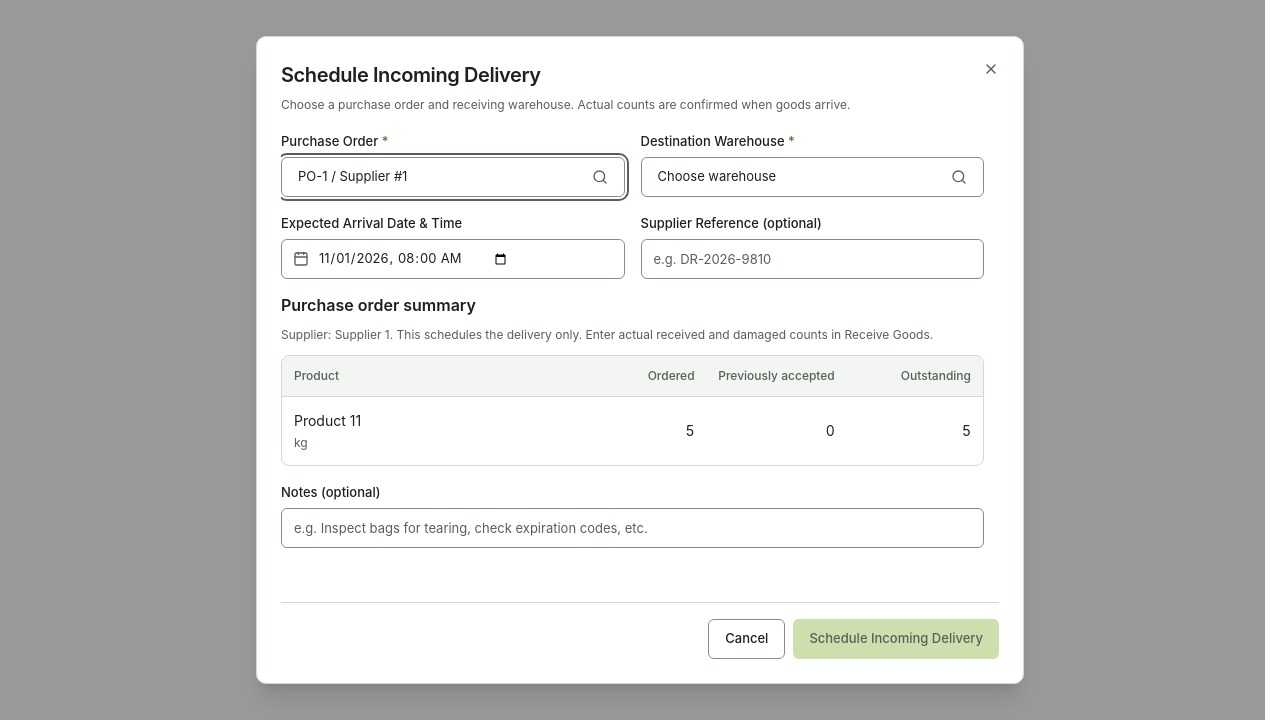
Test: does not submit an inactive warehouse discovered during scheduling preflight
Expected: the text "Product 11" is shown, [294,412,361,428]
Click the button with aria-label "Destination Warehouse" at (717, 176), box [640,157,984,197]
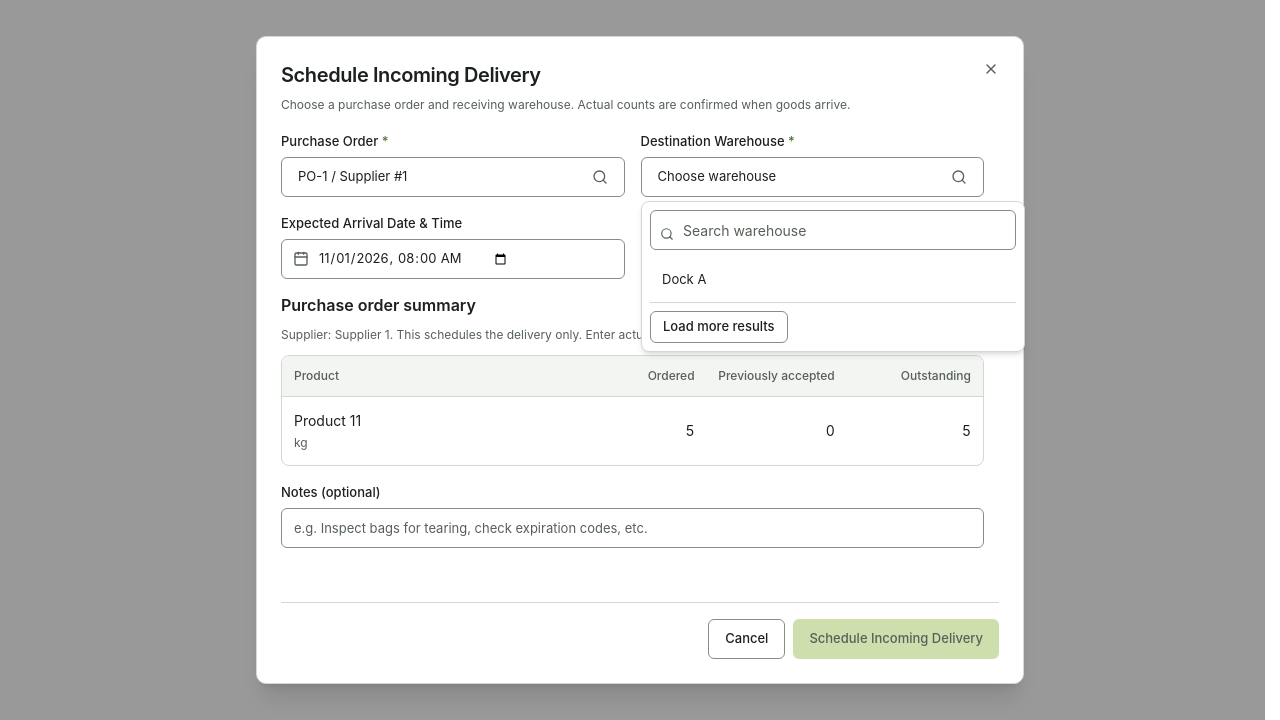
Click the menu item "Dock A" at (684, 279), box [662,271,706,287]
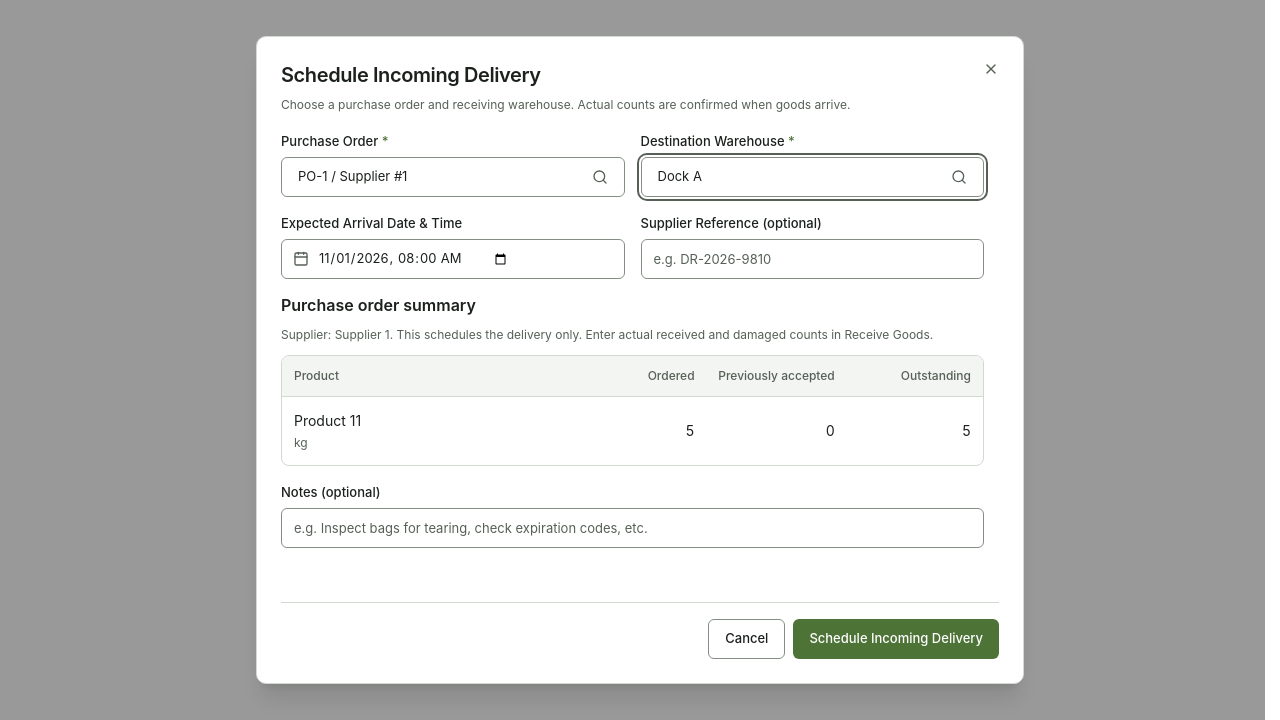
Expected: the button "Schedule Incoming Delivery" is enabled
Click the button "Schedule Incoming Delivery" at (896, 639), box [793,619,999,659]
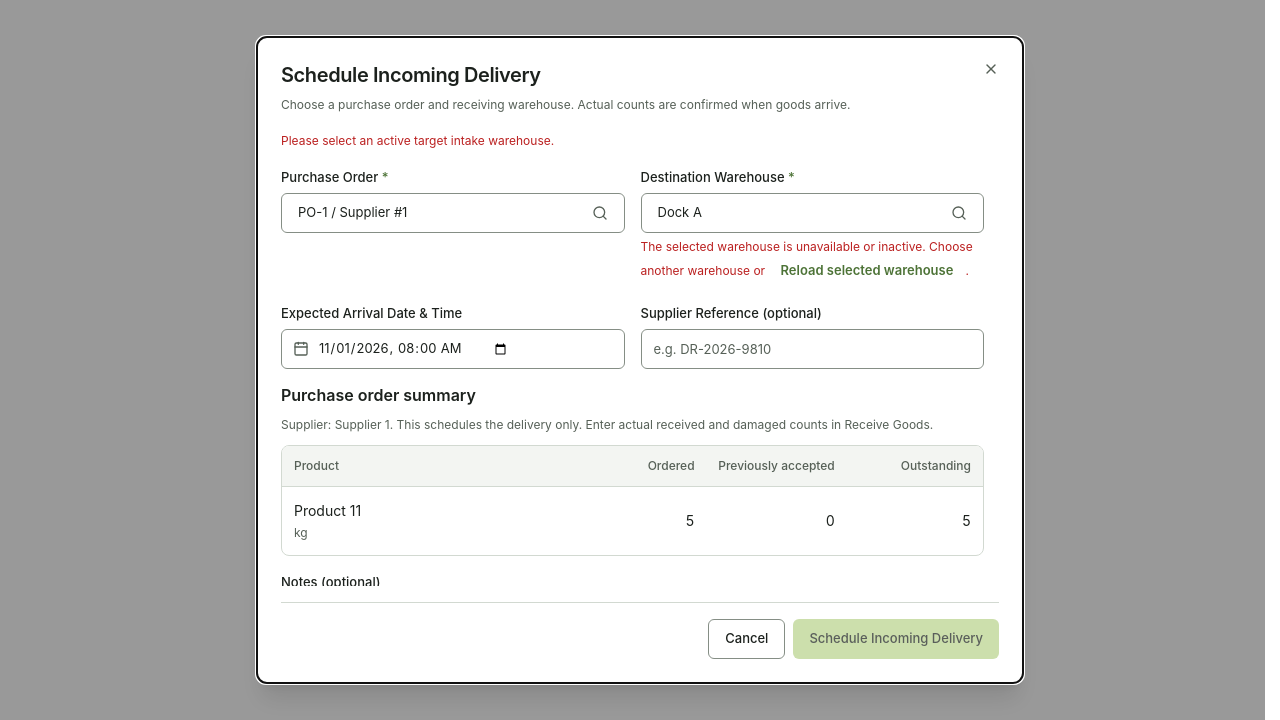
Expected: the text "Please select an active target intake warehouse." is shown, [281,133,554,148]
